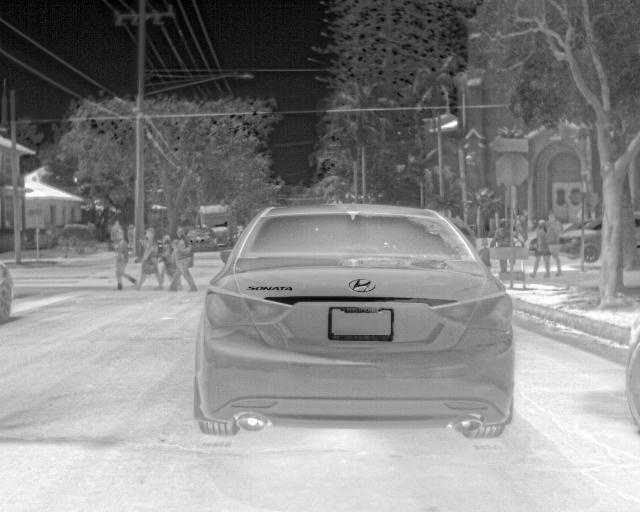bicycle: (191, 189, 516, 441), (625, 308, 639, 430), (582, 216, 602, 264), (184, 225, 217, 251), (0, 261, 14, 322), (560, 226, 579, 259)
empty: (165, 232, 196, 292), (137, 227, 165, 289), (528, 218, 552, 279), (542, 211, 564, 275), (114, 230, 138, 288), (490, 219, 512, 247), (476, 238, 491, 268)
